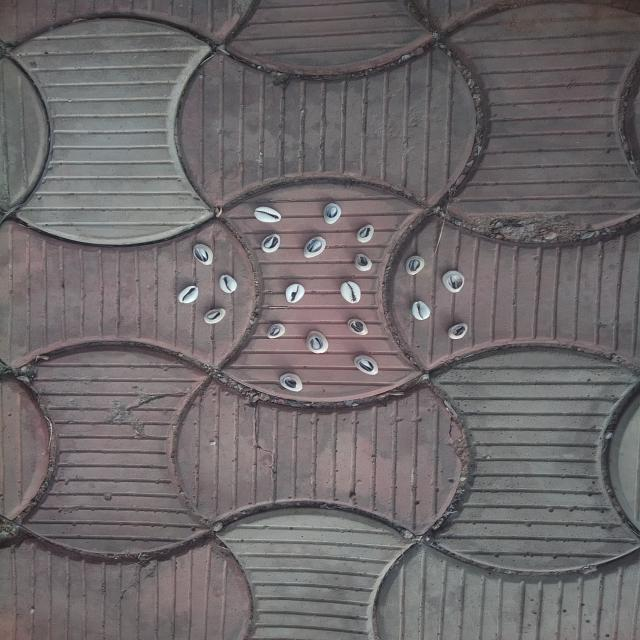facedown: (188, 241, 218, 266), (352, 352, 380, 378), (304, 330, 330, 356), (441, 268, 466, 294), (301, 236, 329, 258), (320, 200, 342, 226), (277, 373, 304, 394), (446, 321, 469, 342), (405, 254, 425, 278), (259, 233, 281, 254), (355, 221, 376, 243), (202, 306, 226, 324), (352, 252, 373, 272), (265, 322, 288, 340), (345, 319, 370, 335)
faceup: (253, 205, 285, 224), (339, 280, 363, 304), (174, 282, 199, 305), (283, 280, 306, 304), (411, 300, 432, 322), (218, 274, 240, 294)
